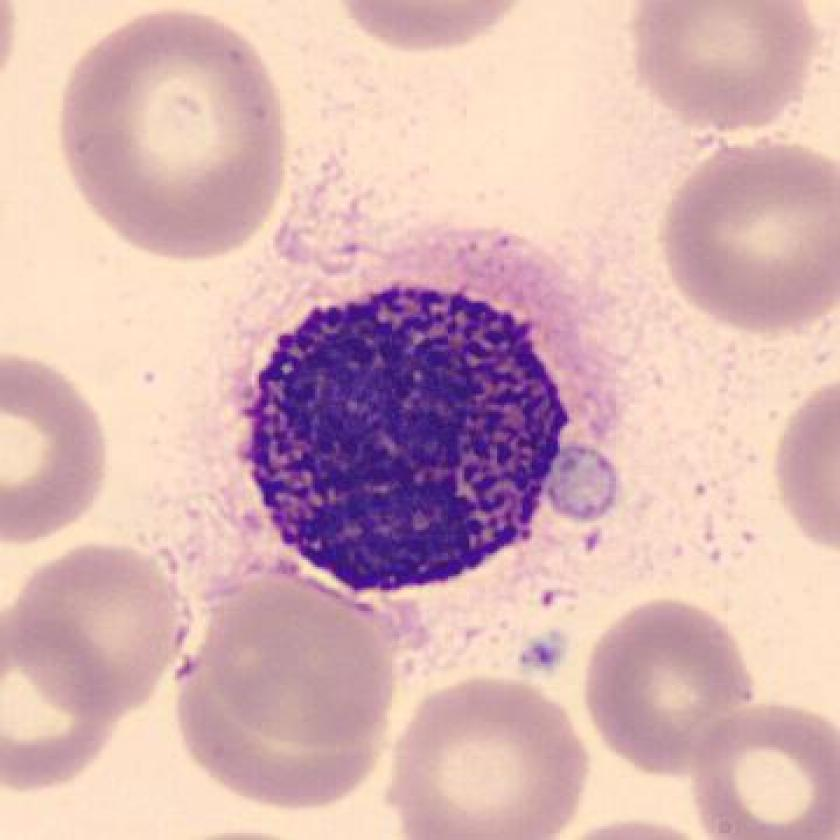basophil: (223, 269, 594, 612)
